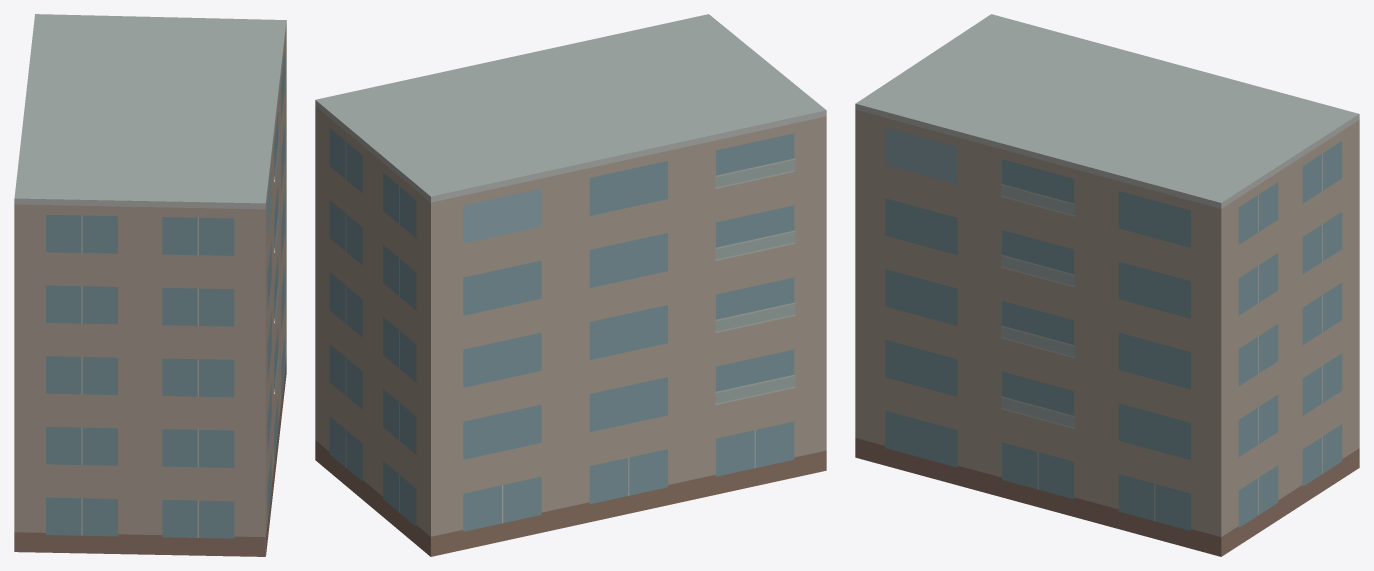
The model's file is survey-upis-32707427.glb.
3 renders of one model, left to right at view 1: azimuth 30°, elevation 25°; view 2: azimuth 150°, elevation 25°; view 3: azimuth 270°, elevation 25°, orthographic.
Visible parts, largest first — view 1: survey-upis-32707427.tmp; view 2: survey-upis-32707427.tmp; view 3: survey-upis-32707427.tmp.
Boxes of the visible parts, <box> form: survey-upis-32707427.tmp: <box>14,14,286,556</box>; survey-upis-32707427.tmp: <box>315,14,826,556</box>; survey-upis-32707427.tmp: <box>855,14,1359,556</box>.
Size of the model in its own units: 16.73 by 14.6 by 18.86.
